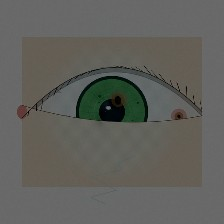foreign_body_visible: (169, 108, 189, 125)
